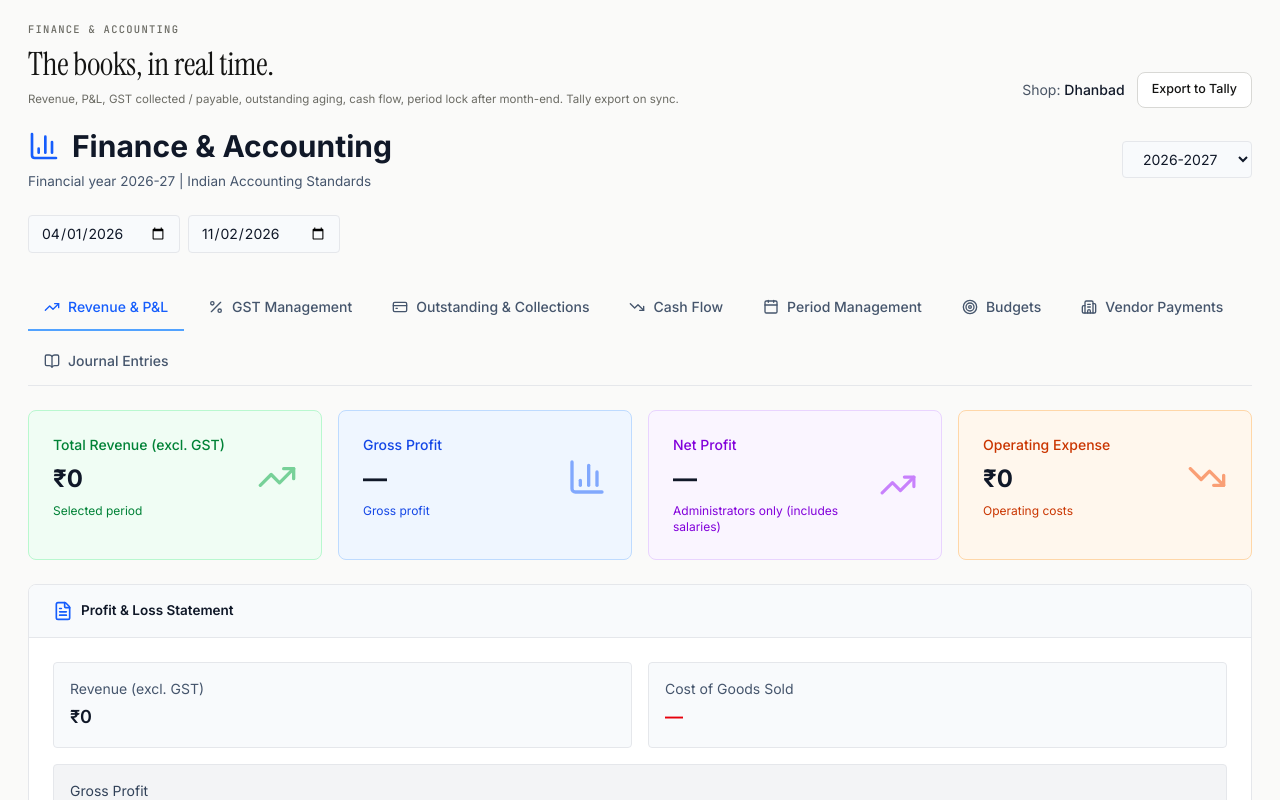
Scenario: the Finance GST table is one row per GSTIN › shows each registration, and says inline why a shared GSTIN has no input-side figure
The width and height of the screenshot is (1280, 800).
Click the button "GST Management". click: (280, 308)
box: x1=192 y1=285 x2=368 y2=331
(page scrolled)
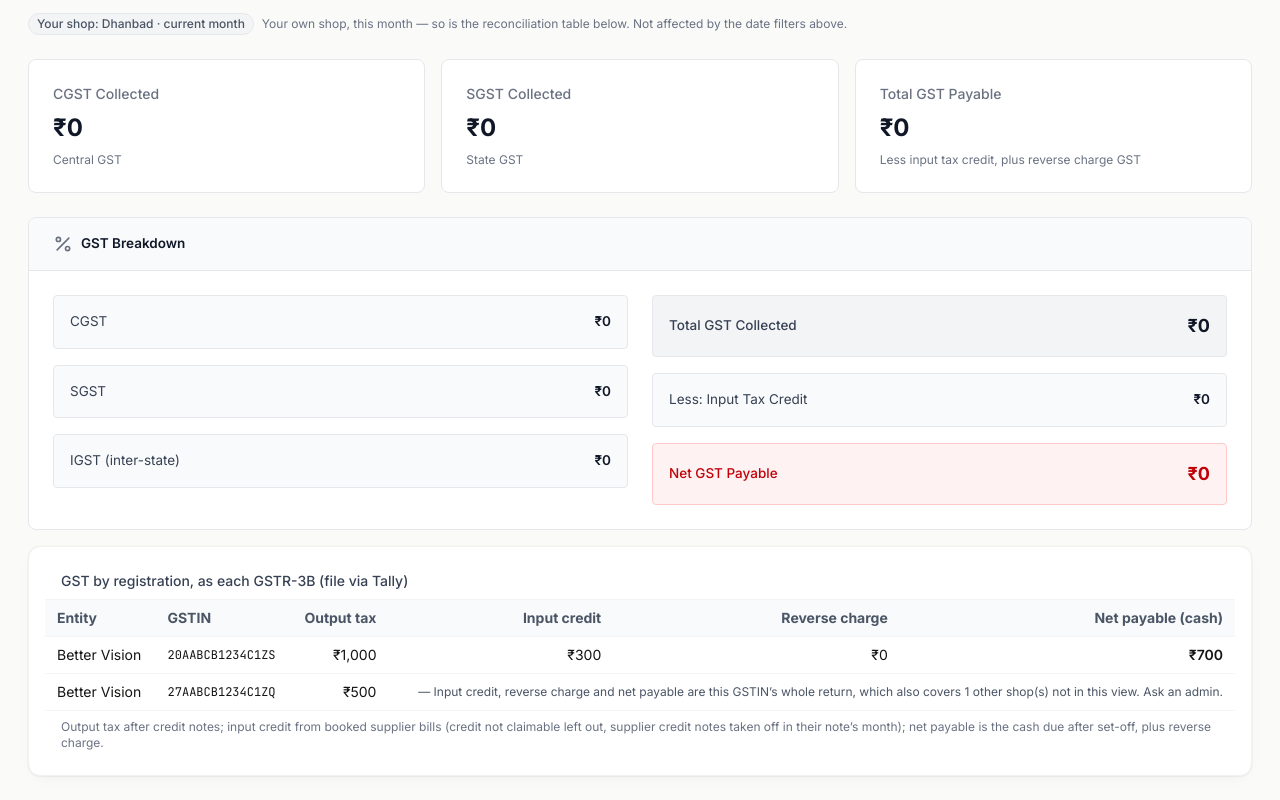
Expected: the text "₹700" is shown, x1=900 y1=636 x2=1235 y2=673
Expected: the cell with test id "gst-recon-withheld" shows "also covers 1 other shop(s) not in this view", x1=388 y1=673 x2=1235 y2=710
